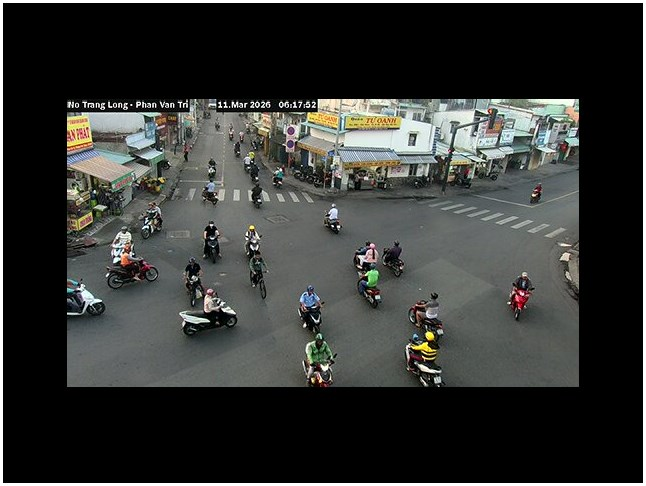motorbike: (178, 291, 238, 336), (405, 334, 445, 387), (105, 257, 159, 289), (66, 277, 106, 317), (508, 284, 534, 321), (305, 356, 335, 387), (140, 202, 163, 238), (202, 229, 222, 264), (324, 204, 343, 234), (201, 182, 220, 206), (530, 182, 543, 203)
